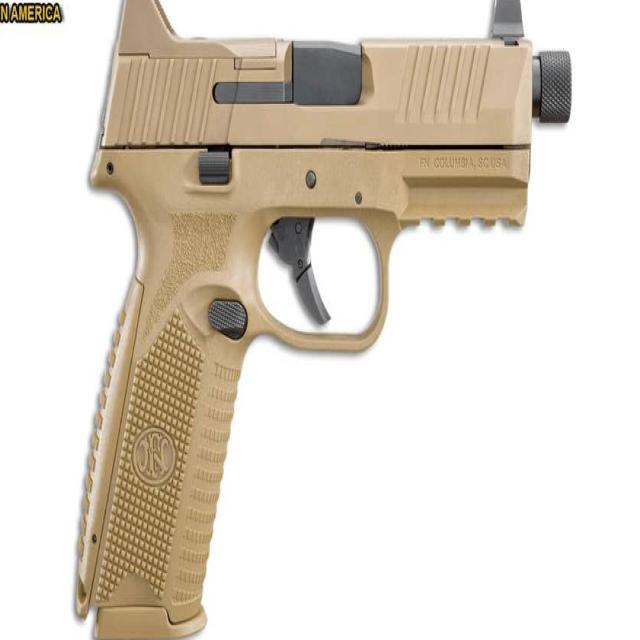Weapon: (78, 0, 571, 637)
